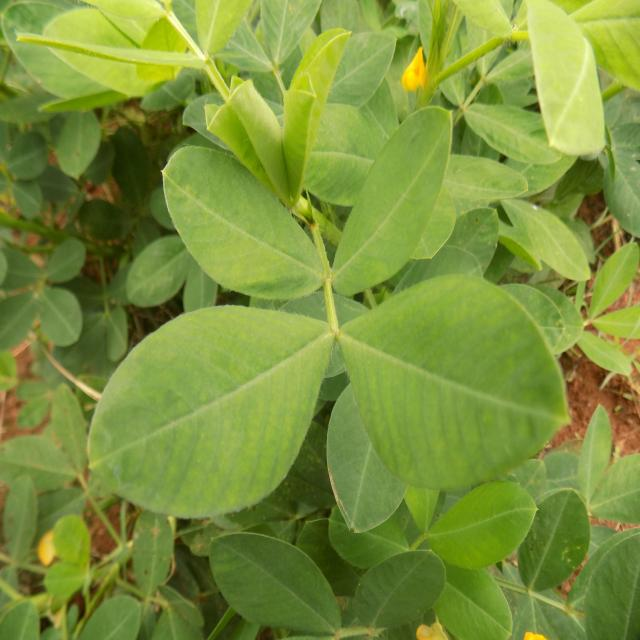Ground nut_healthy: (81, 300, 334, 516), (339, 274, 573, 504), (157, 143, 327, 300), (332, 100, 454, 302), (208, 532, 342, 637), (420, 479, 534, 563), (353, 545, 442, 640), (517, 482, 591, 592), (1, 466, 38, 572), (50, 100, 98, 176), (35, 279, 86, 336), (40, 233, 91, 287), (579, 406, 610, 487), (48, 520, 96, 568), (10, 138, 55, 184)
